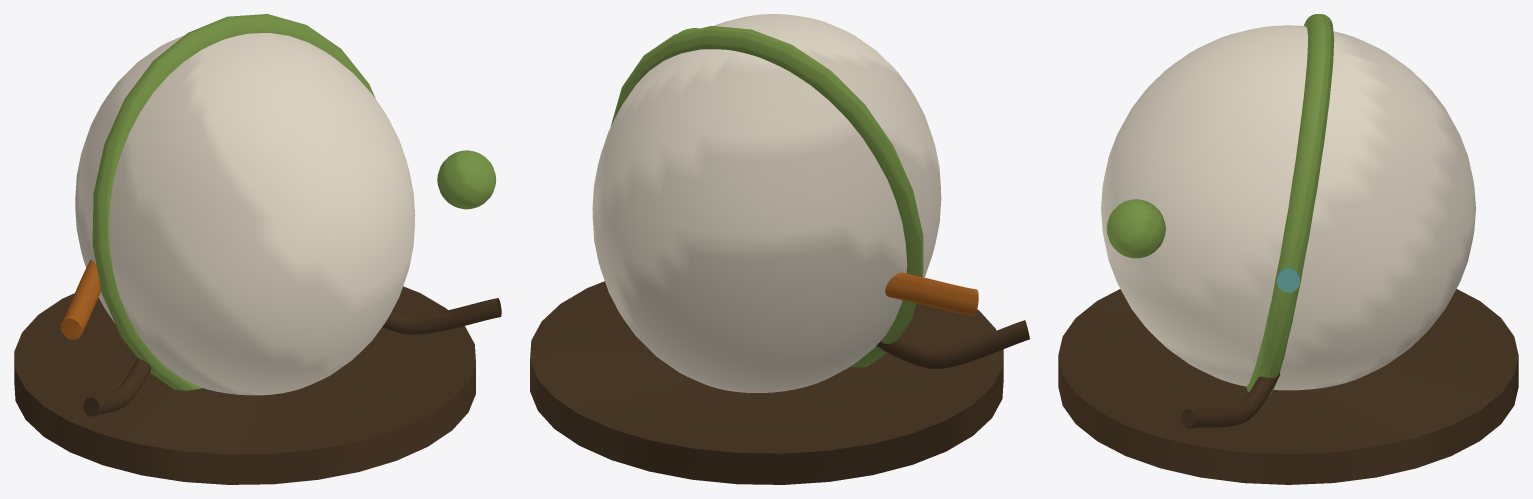
The model's file is 1216_细胞图鉴_高尔基体.glb.
The picture shows the model from 3 angles, left to right: view 1: azimuth 30°, elevation 25°; view 2: azimuth 150°, elevation 25°; view 3: azimuth 270°, elevation 25°; orthographic projection. The views are drawn at different scales.
Visible parts, largest first — view 1: card_1216; view 2: card_1216; view 3: card_1216.
Boxes of the visible parts, x1,y1,x2,y2 form: card_1216: (14,14,501,484); card_1216: (530,14,1029,484); card_1216: (1058,14,1518,484).
Bounding box in the file's own units: 1.21 × 1 × 1.15.
